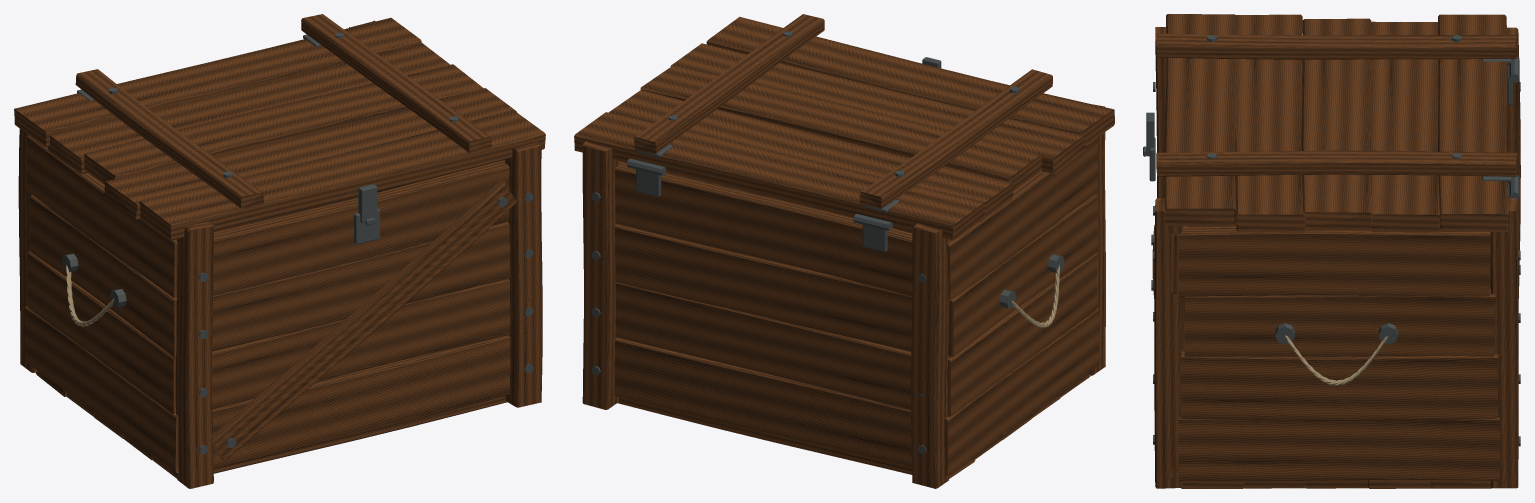
File: wooden-crate.glb
The picture shows the model from 3 angles, left to right: view 1: azimuth 30°, elevation 25°; view 2: azimuth 150°, elevation 25°; view 3: azimuth 270°, elevation 25°; orthographic projection. The views are drawn at different scales.
Parts seen in each view (by area): view 1: GEO-CrateBody-Wood-Warm, GEO-CrateBody-Wood-Grey, GEO-CrateLid-Wood-Grey, GEO-CrateLid-Wood-Warm, GEO-CrateBody-Wood-Dark, GEO-CrateLid-Wood-Dark, GEO-CrateBody-AgedIron, GEO-CrateLid-AgedIron; view 2: GEO-CrateBody-Wood-Warm, GEO-CrateLid-Wood-Grey, GEO-CrateBody-Wood-Dark, GEO-CrateLid-Wood-Warm, GEO-CrateLid-Wood-Dark, GEO-CrateBody-AgedIron, GEO-CrateBody-Wood-Grey, GEO-CrateLid-AgedIron; view 3: GEO-CrateBody-Wood-Warm, GEO-CrateLid-Wood-Grey, GEO-CrateBody-Wood-Dark, GEO-CrateLid-Wood-Warm, GEO-CrateBody-Wood-Grey, GEO-CrateLid-Wood-Dark, GEO-CrateBody-AgedIron, GEO-CrateLid-AgedIron, GEO-CrateBody-Hemp.
Part boxes in pixels (x1=…): GEO-CrateBody-Wood-Warm: x1=24, y1=20, x2=510, y2=488; GEO-CrateBody-Wood-Grey: x1=35, y1=180, x2=517, y2=460; GEO-CrateLid-Wood-Grey: x1=14, y1=17, x2=483, y2=184; GEO-CrateLid-Wood-Warm: x1=104, y1=88, x2=545, y2=240; GEO-CrateBody-Wood-Dark: x1=18, y1=128, x2=542, y2=438; GEO-CrateLid-Wood-Dark: x1=75, y1=14, x2=491, y2=209; GEO-CrateBody-AgedIron: x1=61, y1=192, x2=533, y2=454; GEO-CrateLid-AgedIron: x1=77, y1=32, x2=458, y2=223; GEO-CrateBody-Wood-Warm: x1=582, y1=104, x2=1105, y2=475; GEO-CrateLid-Wood-Grey: x1=574, y1=65, x2=1042, y2=240; GEO-CrateBody-Wood-Dark: x1=614, y1=223, x2=1097, y2=488; GEO-CrateLid-Wood-Warm: x1=670, y1=16, x2=1114, y2=174; GEO-CrateLid-Wood-Dark: x1=633, y1=14, x2=1052, y2=209; GEO-CrateBody-AgedIron: x1=591, y1=158, x2=1064, y2=453; GEO-CrateBody-Wood-Grey: x1=617, y1=161, x2=975, y2=478; GEO-CrateLid-AgedIron: x1=636, y1=31, x2=1019, y2=212; GEO-CrateBody-Wood-Warm: x1=1155, y1=27, x2=1518, y2=488; GEO-CrateLid-Wood-Grey: x1=1301, y1=14, x2=1508, y2=232; GEO-CrateBody-Wood-Dark: x1=1154, y1=27, x2=1520, y2=488; GEO-CrateLid-Wood-Warm: x1=1164, y1=14, x2=1305, y2=232; GEO-CrateBody-Wood-Grey: x1=1152, y1=225, x2=1491, y2=488; GEO-CrateLid-Wood-Dark: x1=1156, y1=33, x2=1517, y2=176; GEO-CrateBody-AgedIron: x1=1143, y1=57, x2=1520, y2=446; GEO-CrateLid-AgedIron: x1=1146, y1=35, x2=1511, y2=181; GEO-CrateBody-Hemp: x1=1285, y1=335, x2=1388, y2=385.
Size of the model in its own units: 1.18 by 0.7825 by 0.8776.
Materials: 5 (3 with a texture image).
